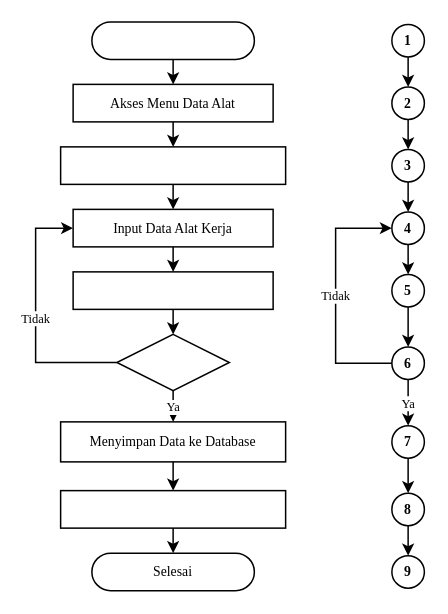
Image size: 448x614. Some labels were removed from this diagram. Each missing label, with the centre of its shape:
Data Valid?: (x=173, y=362)
Menampilkan Form Tambah Alat: (x=172, y=165)
Menampilkan Pesan Berhasil: (x=172, y=508)
Mulai: (x=172, y=39)
Validasi Data Alat Kerja: (x=172, y=290)
